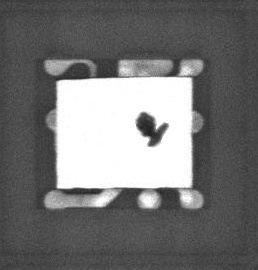DIE_INK: (129, 115, 161, 154)
